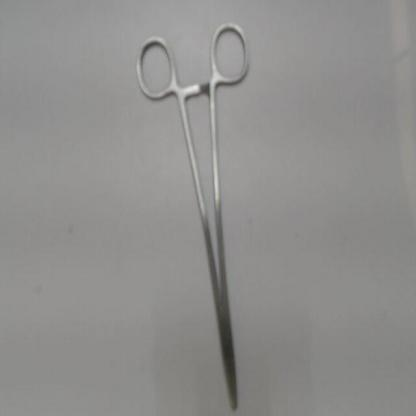8 Mayo Needle Holder: (128, 14, 256, 415)
